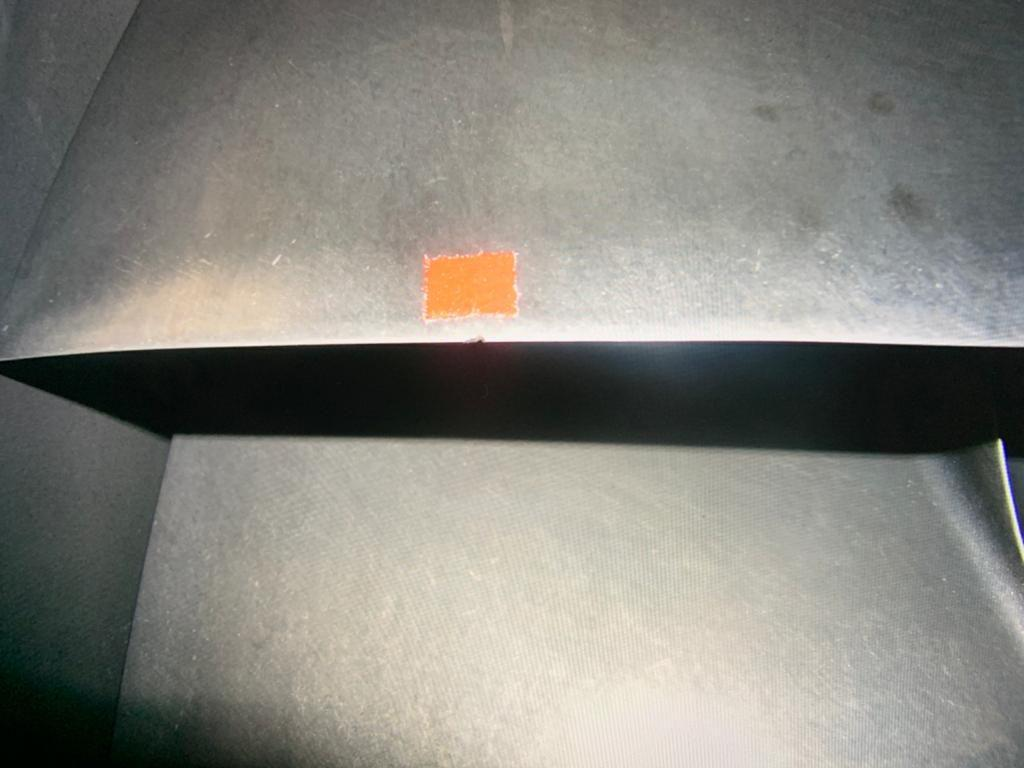nick: (464, 333, 485, 343)
